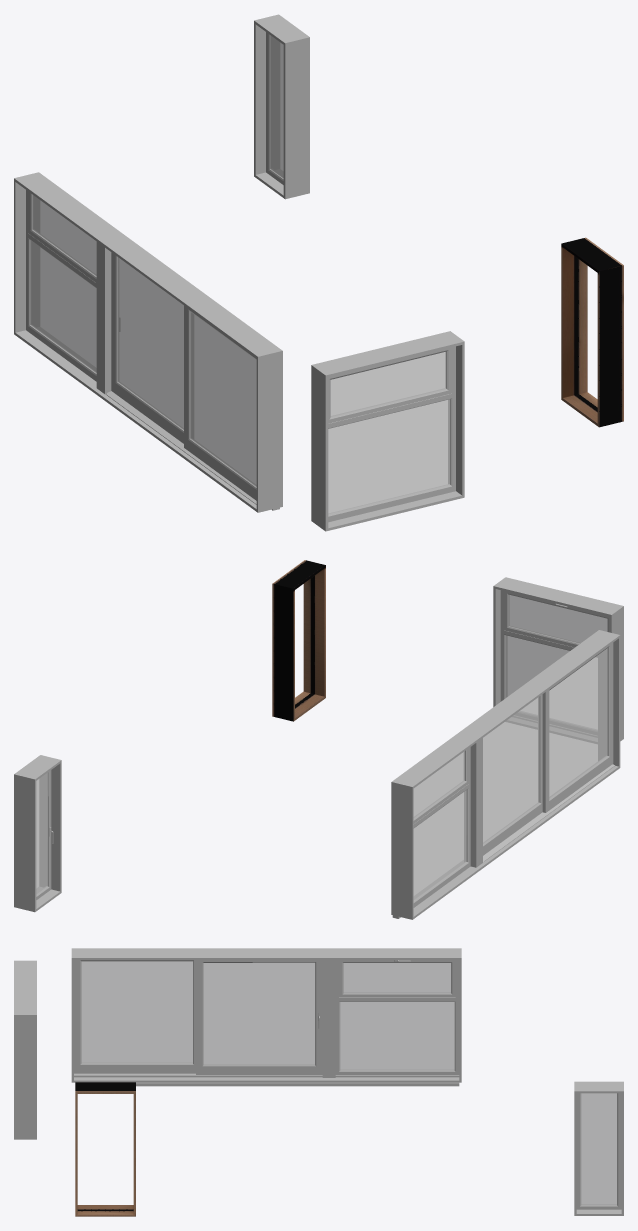
File: Alumininum_Window.glb
3 views of the same model, one above another, from view 1: azimuth 30°, elevation 25°; view 2: azimuth 150°, elevation 25°; view 3: azimuth 270°, elevation 25° (orthographic). The views are drawn at different scales.
Parts seen in each view (by area): view 1: Alum_Window; view 2: Alum_Window; view 3: Alum_Window.
Boxes of the visible parts, <box> form: Alum_Window: <box>14,14,623,531</box>; Alum_Window: <box>14,560,623,919</box>; Alum_Window: <box>14,948,623,1216</box>.
Bounding box in the file's own units: 2.19 × 0.9101 × 3.92.
3 materials, 1 textured.
